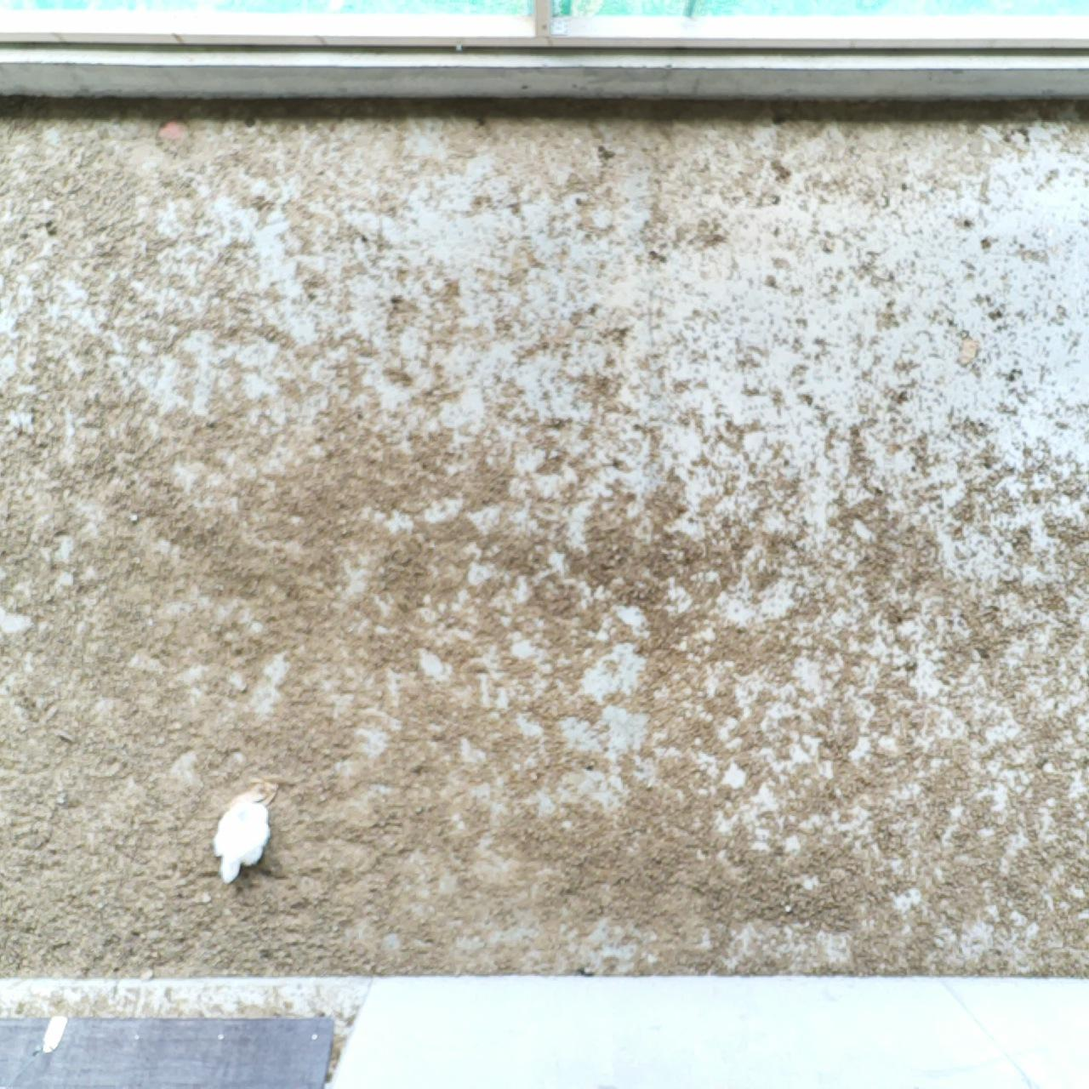chicken: (211, 795, 272, 884)
